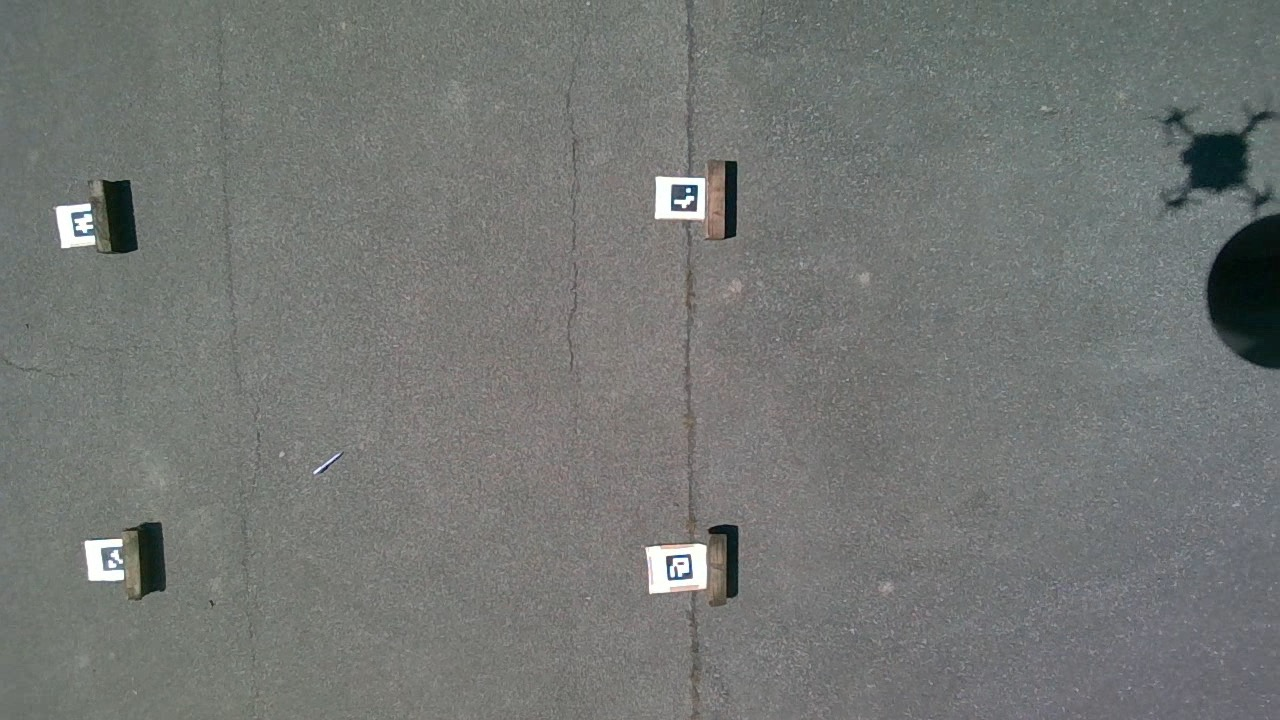probes: (313, 453, 343, 475)
